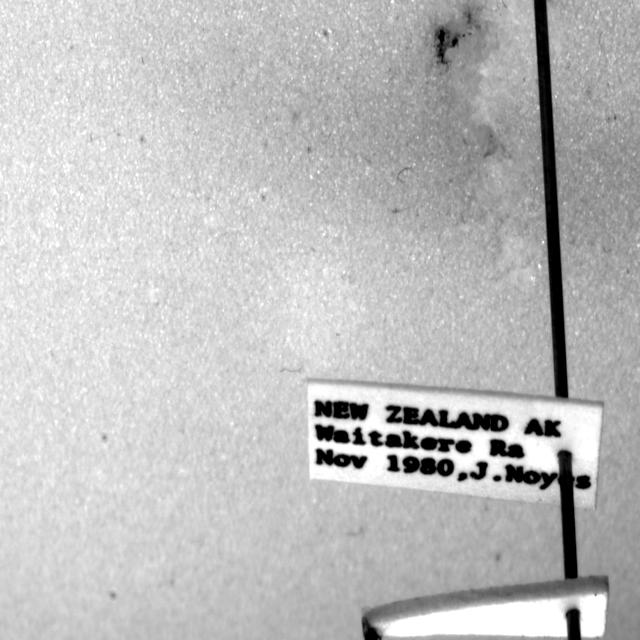typed_label: (308, 381, 602, 508)
